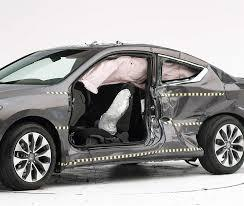RunningBoard-Dent: (69, 146, 211, 159)
doorouter-dent: (76, 43, 154, 141), (159, 54, 210, 143)
